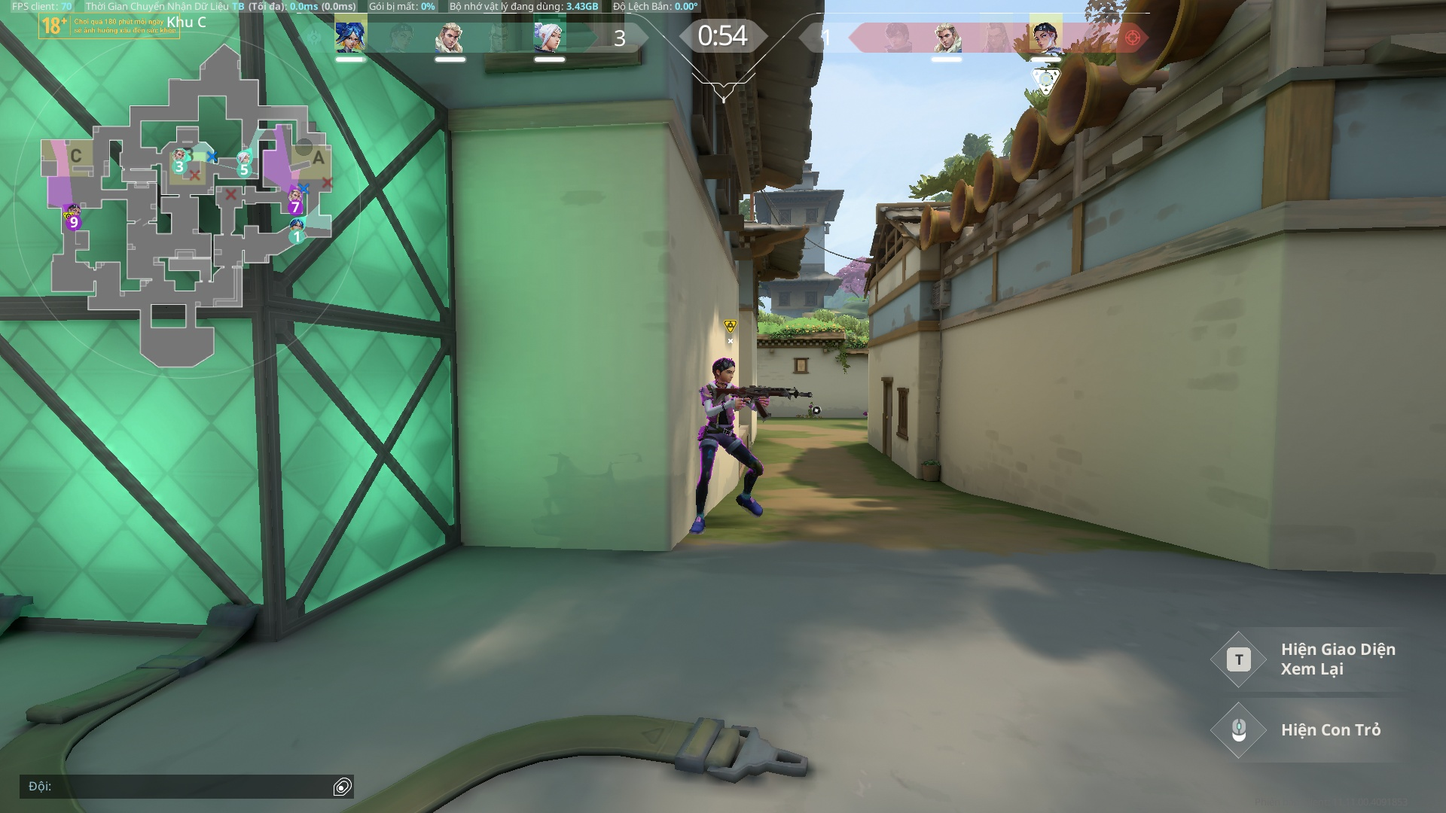body: (698, 379, 738, 423)
head: (712, 358, 736, 382)
